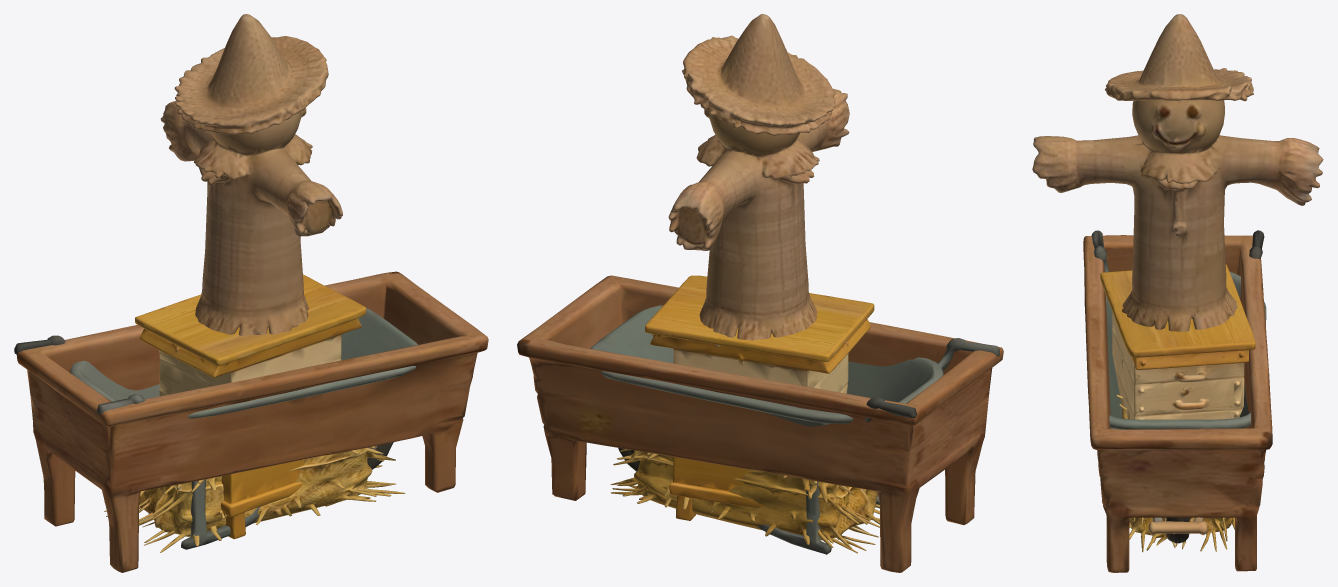
File: cour.glb
3 views of the same model, side by side, from view 1: azimuth 30°, elevation 25°; view 2: azimuth 150°, elevation 25°; view 3: azimuth 270°, elevation 25° (orthographic). The views are drawn at different scales.
Parts seen in each view (by area): view 1: mangeoire, epouvantail, ruche, botte-de-foin, brouette; view 2: mangeoire, epouvantail, ruche, brouette, botte-de-foin; view 3: epouvantail, mangeoire, ruche, brouette, botte-de-foin.
Part boxes in pixels (x1,y1,x2,y2): mangeoire: (16, 271, 488, 572); epouvantail: (160, 14, 342, 335); ruche: (135, 274, 366, 539); botte-de-foin: (104, 391, 405, 552); brouette: (14, 308, 417, 549); mangeoire: (517, 275, 1003, 572); epouvantail: (668, 14, 849, 347); ruche: (645, 275, 874, 520); brouette: (590, 305, 1000, 554); botte-de-foin: (610, 449, 879, 553); epouvantail: (1032, 14, 1323, 331); mangeoire: (1083, 235, 1272, 572); ruche: (1100, 264, 1255, 419); brouette: (1091, 230, 1266, 543); botte-de-foin: (1117, 394, 1234, 551).
Bounding box in the file's own units: 1.5 × 1.8 × 0.9944.
Materials: 1 (1 with a texture image).
